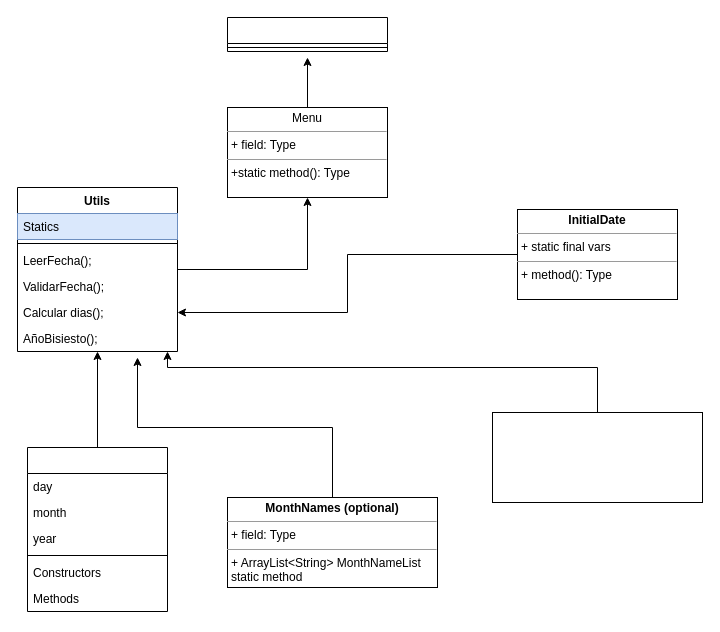
Some shapes in this 720 by 632 pixel diagram are drawn without their labels. Here are the shapes that lost their labels. From the top down, the box of each, then its label:
(226, 16, 388, 52): Main
(492, 412, 702, 502): WeekDays + field: Type + ArrayList<String> DaysNameList static method
(26, 446, 168, 612): myDate
